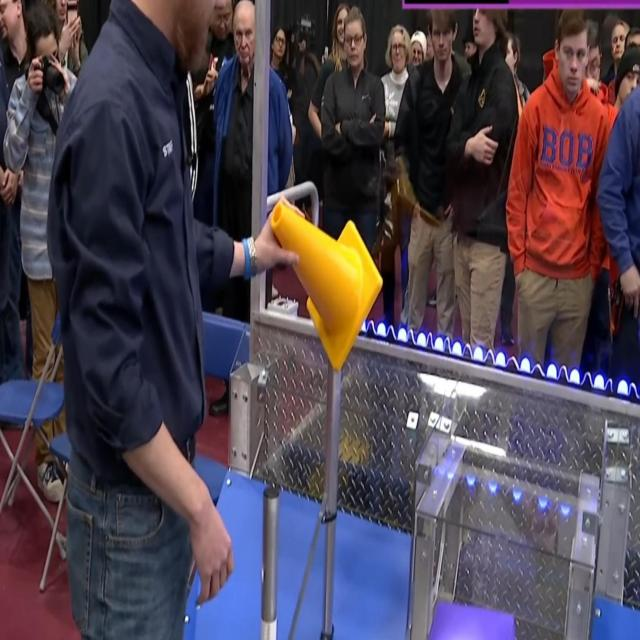frc_cone: (270, 203, 384, 373)
frc_cube: (417, 602, 516, 640)
